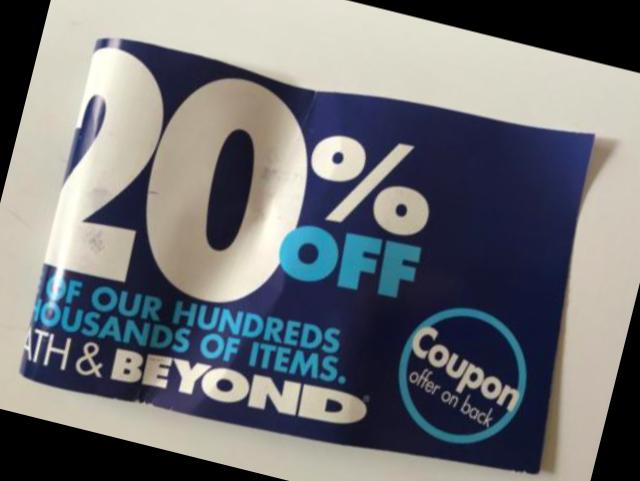cardboard paper: (20, 37, 592, 469)
